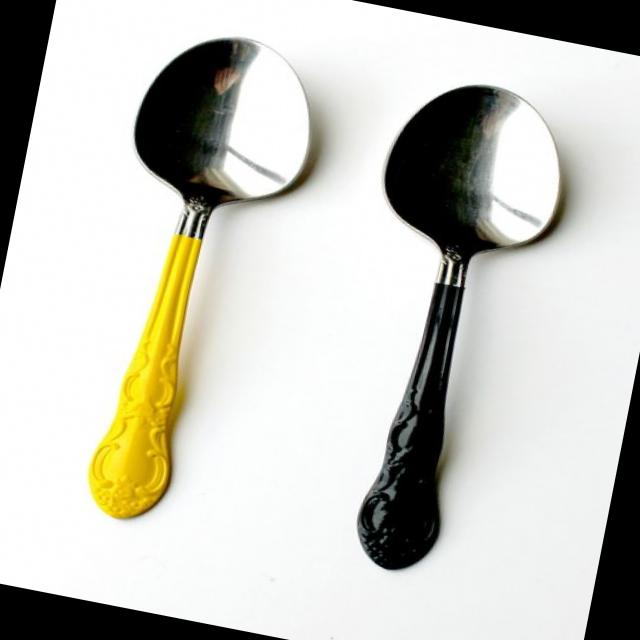spoon: (20, 12, 347, 556)
